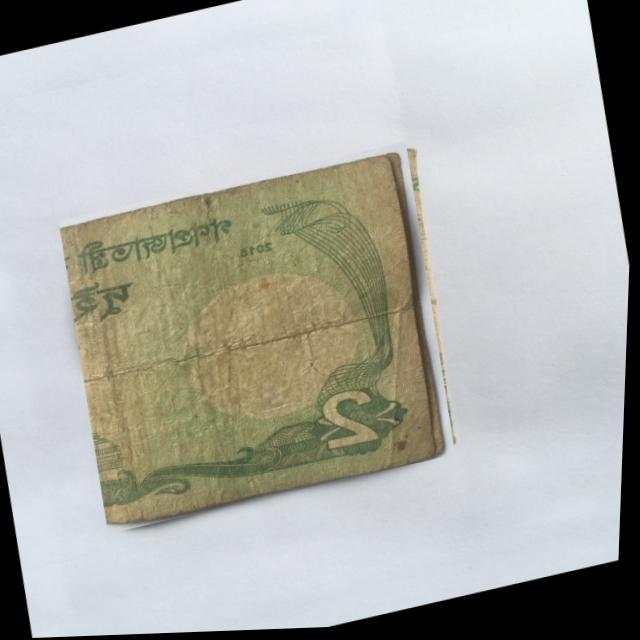Taka: (51, 143, 468, 537)
